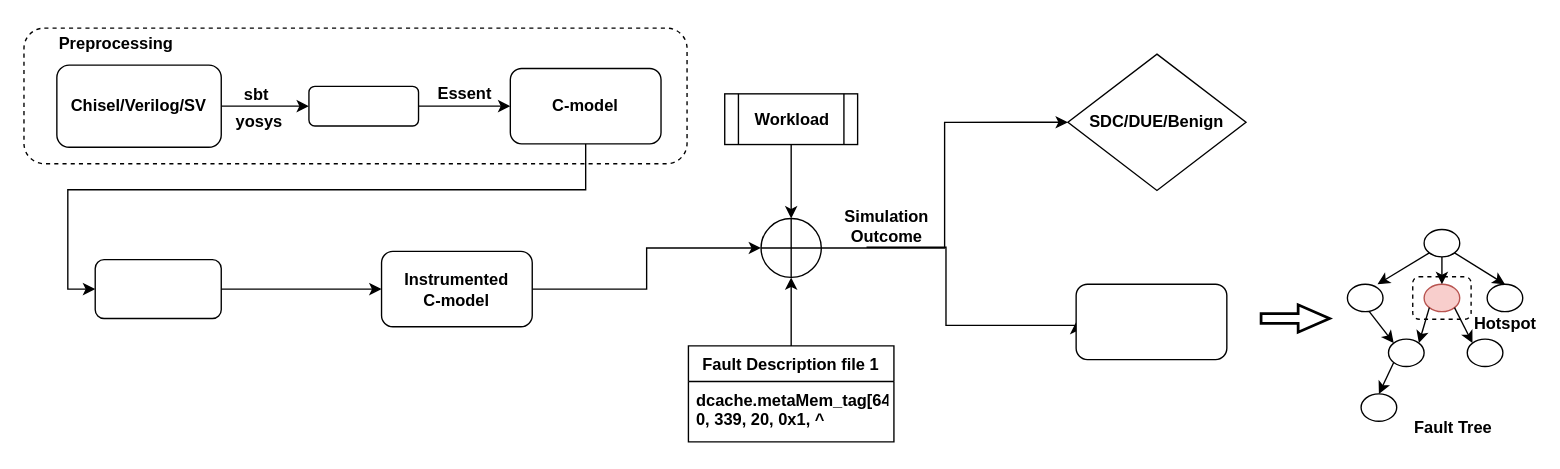
The diagram is 1560 pixels wide and 469 high, and some of its shapes have lost their labels. The centre of each missing label's shape, as x and y in pixels:
"Fault Tracking log" belongs at (1151,321).
"FIRRTL" belongs at (363,105).
"Parser" belongs at (157,288).
